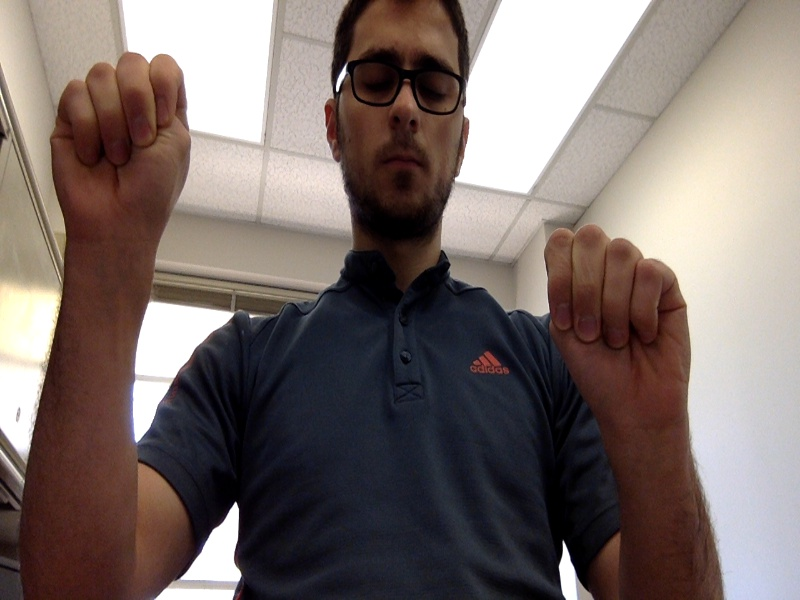0-hand: (545, 227, 691, 432), (50, 53, 191, 250)
